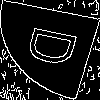D: (25, 24, 89, 71)
